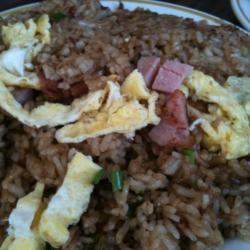omelette: (24, 71, 247, 163)
